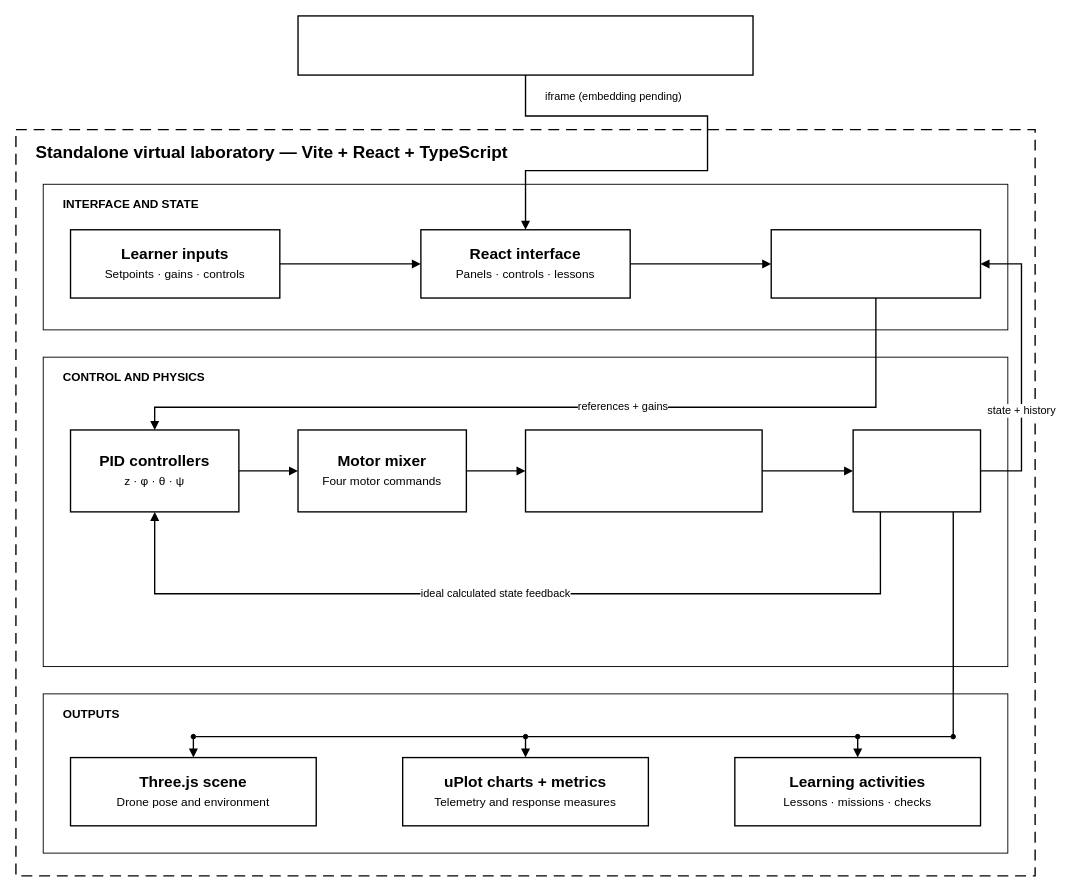
This 1072x893 diagram has some shape labels left out. Here are the shapes that lost their labels. From the top down, the centre of each, then its label:
point (525, 45): Next.js host LMS Separate application
point (875, 263): Zustand store Configuration · state · history
point (643, 470): Quadrotor model + RK4 Rigid-body equations · fixed step
point (916, 470): Calculated state x(k + 1)
